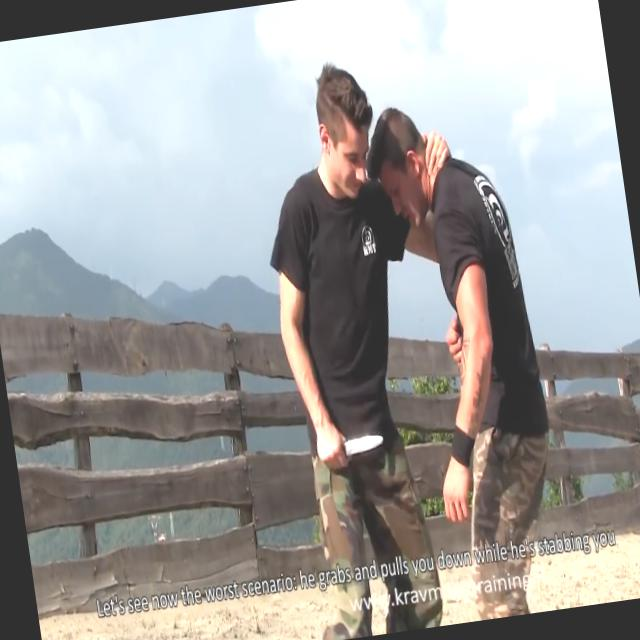knife: (311, 418, 390, 478)
